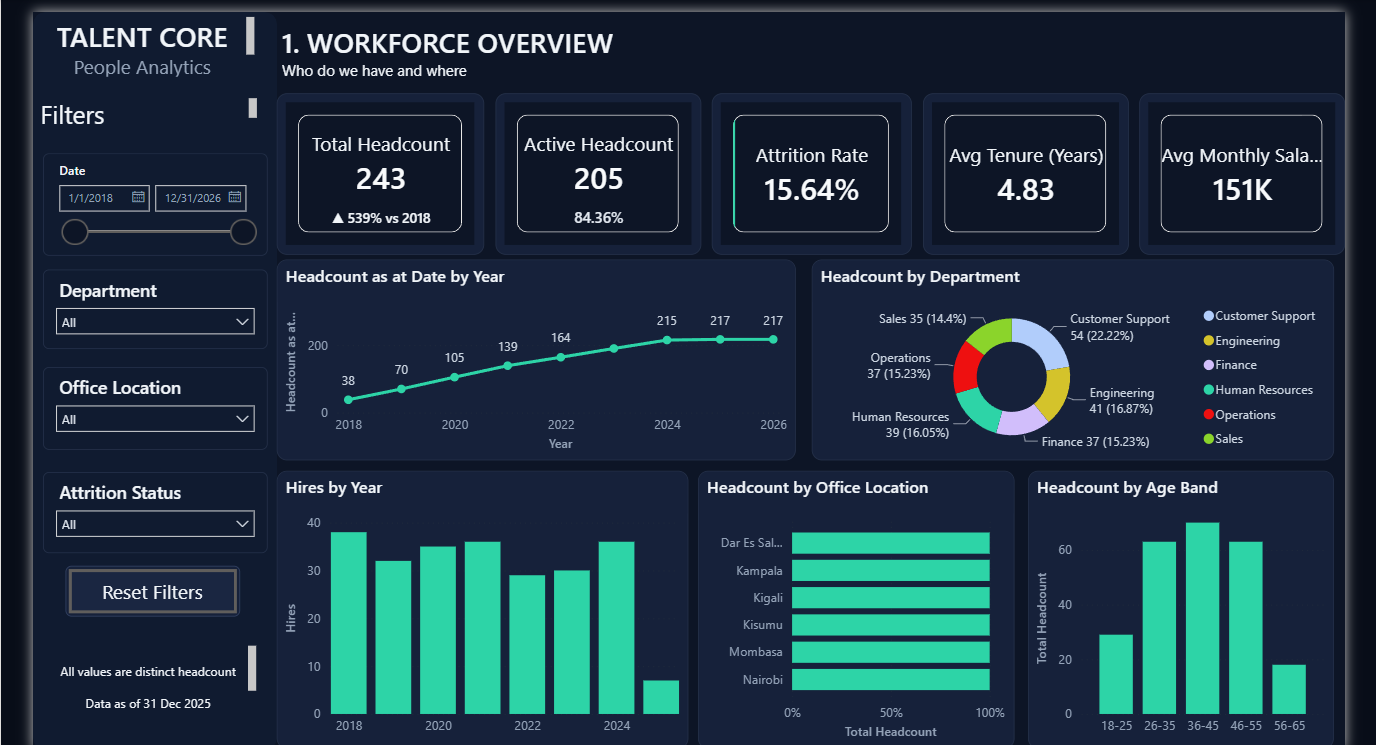

This screenshot's page, from the dashboard's own definition file:
{"tool":"powerbi","page":{"name":"Workforce Overview","canvas":[1280,720],"ordinal":0},"visuals":[{"type":"shape","box":[0,0,238.1,720],"z":0},{"type":"textbox","box":[0,0,221.1,68.4],"z":1000},{"type":"textbox","box":[1.9,79.4,221.1,45.4],"z":2000},{"type":"slicer","fields":{"Values":["Date Table.Date"]},"box":[9.5,138.4,219.5,100.2],"z":3000},{"type":"slicer","fields":{"Values":["TalentCore_HR_Workforce_Data.Department"]},"box":[9.5,251.3,219.5,77.9],"z":4000},{"type":"slicer","fields":{"Values":["TalentCore_HR_Workforce_Data.Office Location"]},"box":[9.5,346.8,219.5,81.1],"z":5000},{"type":"slicer","fields":{"Values":["TalentCore_HR_Workforce_Data.Attrition Status"]},"box":[9.5,448.6,219.5,79.5],"z":6000},{"type":"actionButton","box":[31.8,540.8,170.2,49.3],"z":7000},{"type":"textbox","box":[9.5,614,213.1,74.8],"z":8000},{"type":"cardVisual","fields":{"Data":["TalentCore_HR_Workforce_Data.Total Headcount"]},"box":[238.3,79.4,202.3,157.4],"z":9000},{"type":"cardVisual","fields":{"Data":["TalentCore_HR_Workforce_Data.Active Headcount"]},"box":[451.1,79.4,200.8,157.4],"z":10000},{"type":"cardVisual","fields":{"Data":["TalentCore_HR_Workforce_Data.Attrition Rate"]},"box":[662.5,79.4,194.8,157.4],"z":11000},{"type":"cardVisual","fields":{"Data":["TalentCore_HR_Workforce_Data.Avg Tenure (Years)"]},"box":[867.8,79.4,200.8,157.4],"z":12000},{"type":"cardVisual","fields":{"Data":["TalentCore_HR_Workforce_Data.Avg Monthly Salary"]},"box":[1079.2,79.4,200.8,157.4],"z":13000},{"type":"lineChart","fields":{"Y":["TalentCore_HR_Workforce_Data.Headcount as at Date"],"Category":["Date Table.Year"]},"box":[238.3,241.3,506.6,196.3],"z":14000},{"type":"donutChart","title":"Headcount by Department","fields":{"Category":["TalentCore_HR_Workforce_Data.Department"],"Y":["TalentCore_HR_Workforce_Data.Total Headcount"]},"box":[759.9,241.3,509.6,196.3],"z":15000},{"type":"clusteredColumnChart","fields":{"Category":["Date Table.Year"],"Y":["TalentCore_HR_Workforce_Data.Hires"]},"box":[238.3,448.1,401.7,271.3],"z":16000},{"type":"hundredPercentStackedBarChart","title":"Headcount by Office Location","fields":{"Category":["TalentCore_HR_Workforce_Data.Office Location"],"Y":["TalentCore_HR_Workforce_Data.Total Headcount"]},"box":[649,448.1,308.8,271.3],"z":17000},{"type":"columnChart","title":"Headcount by Age Band","fields":{"Category":["TalentCore_HR_Workforce_Data.Age Band"],"Y":["TalentCore_HR_Workforce_Data.Total Headcount"]},"box":[971.2,448.1,298.3,271.3],"z":18000},{"type":"textbox","box":[238.3,6,999.7,73.4],"z":19000}]}

Visuals, with their boxes on the page's 1280x720 design canvas (x1, y1, x2, y2). These are canvas units, not pixel positions in the 1376x745 screenshot, which may show the page scaled, cropped or inside an application window:
shape: (x1=0, y1=0, x2=238, y2=720)
textbox: (x1=0, y1=0, x2=221, y2=68)
textbox: (x1=2, y1=79, x2=223, y2=125)
slicer - Date Table.Date: (x1=10, y1=138, x2=229, y2=239)
slicer - TalentCore_HR_Workforce_Data.Department: (x1=10, y1=251, x2=229, y2=329)
slicer - TalentCore_HR_Workforce_Data.Office Location: (x1=10, y1=347, x2=229, y2=428)
slicer - TalentCore_HR_Workforce_Data.Attrition Status: (x1=10, y1=449, x2=229, y2=528)
actionButton: (x1=32, y1=541, x2=202, y2=590)
textbox: (x1=10, y1=614, x2=223, y2=689)
cardVisual - TalentCore_HR_Workforce_Data.Total Headcount: (x1=238, y1=79, x2=441, y2=237)
cardVisual - TalentCore_HR_Workforce_Data.Active Headcount: (x1=451, y1=79, x2=652, y2=237)
cardVisual - TalentCore_HR_Workforce_Data.Attrition Rate: (x1=662, y1=79, x2=857, y2=237)
cardVisual - TalentCore_HR_Workforce_Data.Avg Tenure (Years): (x1=868, y1=79, x2=1069, y2=237)
cardVisual - TalentCore_HR_Workforce_Data.Avg Monthly Salary: (x1=1079, y1=79, x2=1280, y2=237)
lineChart - TalentCore_HR_Workforce_Data.Headcount as at Date x Date Table.Year: (x1=238, y1=241, x2=745, y2=438)
"Headcount by Department" donutChart: (x1=760, y1=241, x2=1270, y2=438)
clusteredColumnChart - Date Table.Year x TalentCore_HR_Workforce_Data.Hires: (x1=238, y1=448, x2=640, y2=719)
"Headcount by Office Location" hundredPercentStackedBarChart: (x1=649, y1=448, x2=958, y2=719)
"Headcount by Age Band" columnChart: (x1=971, y1=448, x2=1270, y2=719)
textbox: (x1=238, y1=6, x2=1238, y2=79)
